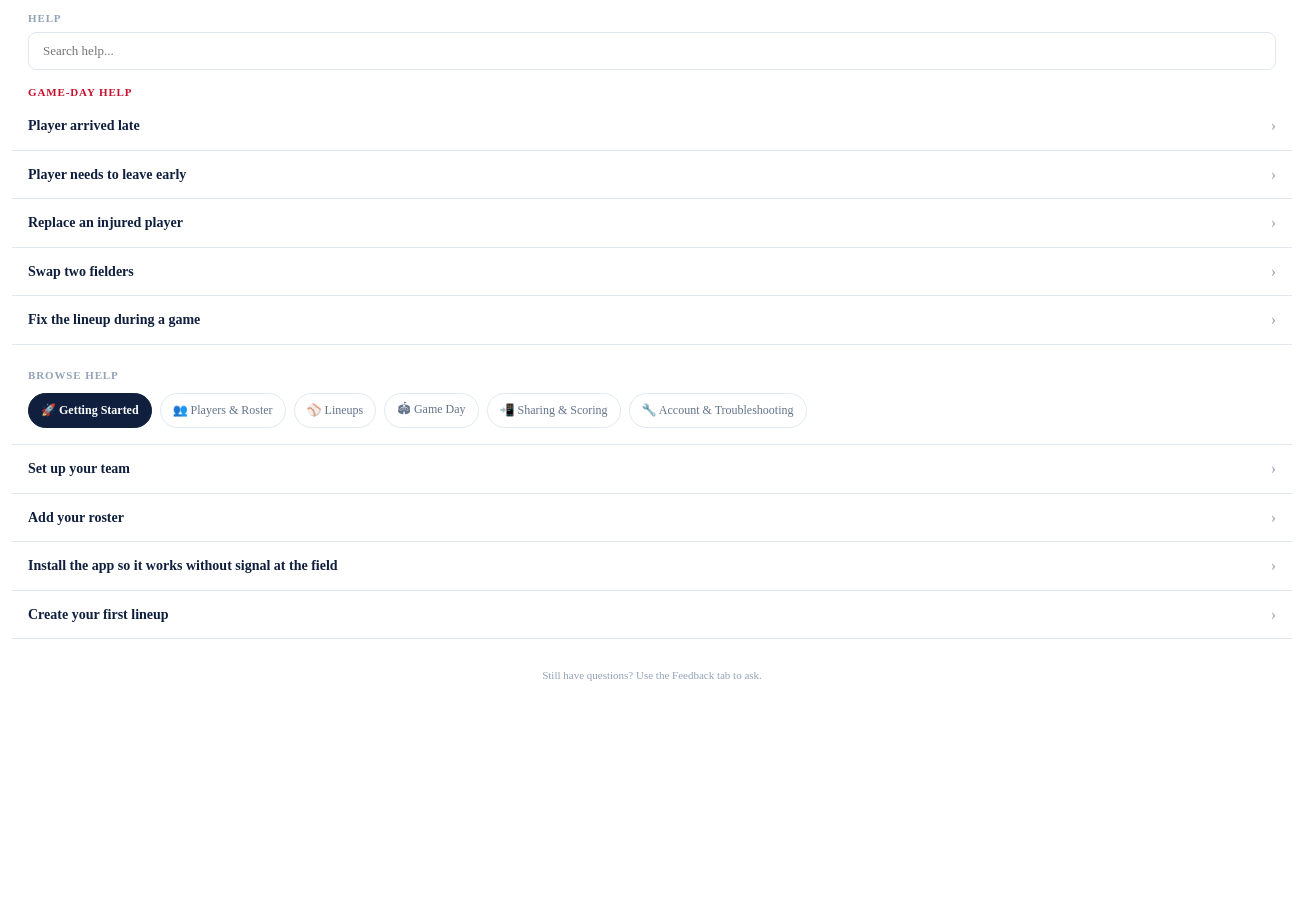
Scenario: FAQSection — Help redesign › H5: clicking a Browse Help question reveals its answer; clicking again hides it
The image size is (1304, 900).
Click the text "Set up your team". click: click(79, 468)
box: [28,461,130,476]
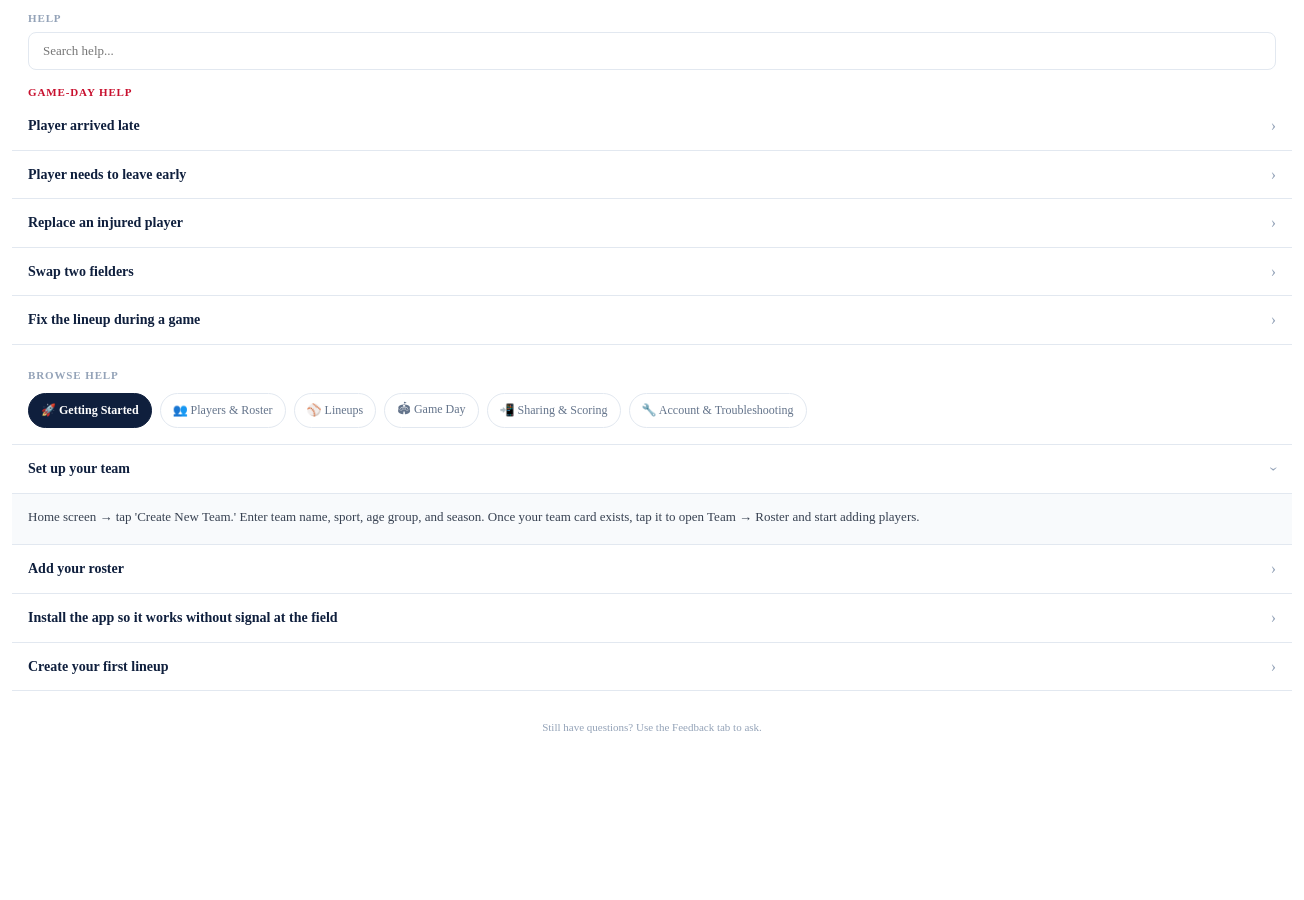
Now the text "Home screen → tap 'Create New Team.' Enter team name, sport, age group, and season. Once your team card exists, tap it t" is shown, box [28,509,920,524]
Click the text "Set up your team". click: click(79, 468)
box: [28,461,130,476]
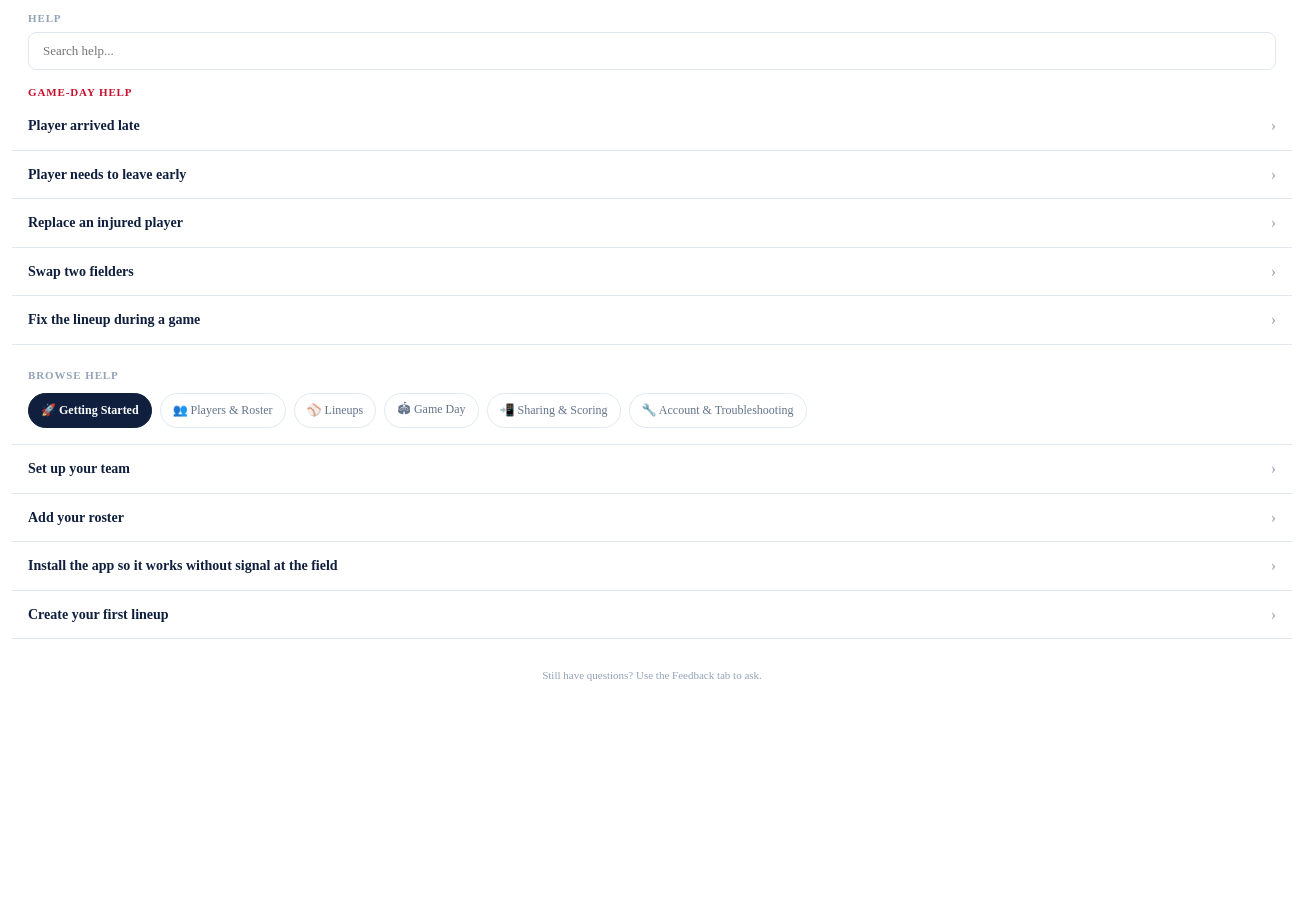
Now the text "Home screen → tap 'Create New Team.' Enter team name, sport, age group, and season. Once your team card exists, tap it t" is gone
